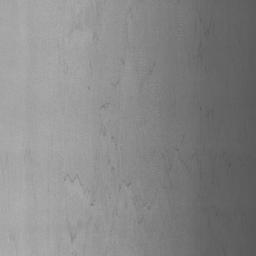Silk spot: (204, 22, 215, 36), (64, 174, 80, 183), (197, 40, 203, 60), (100, 103, 112, 109), (70, 232, 76, 243)
